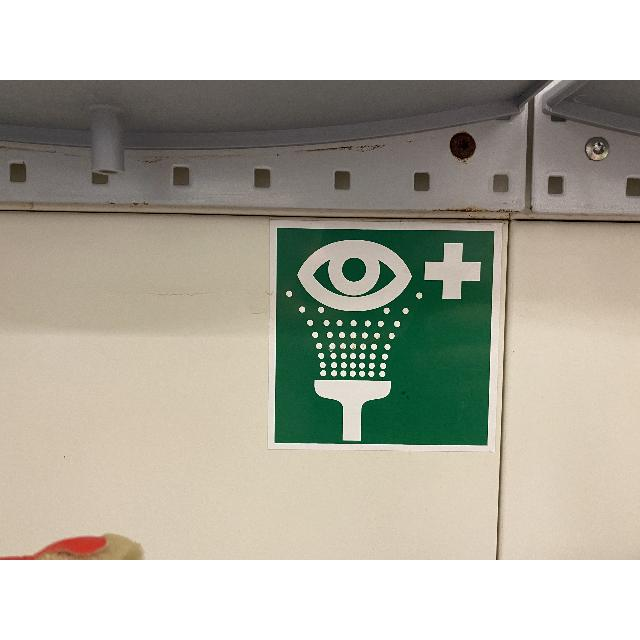eye shower: (271, 221, 494, 449)
